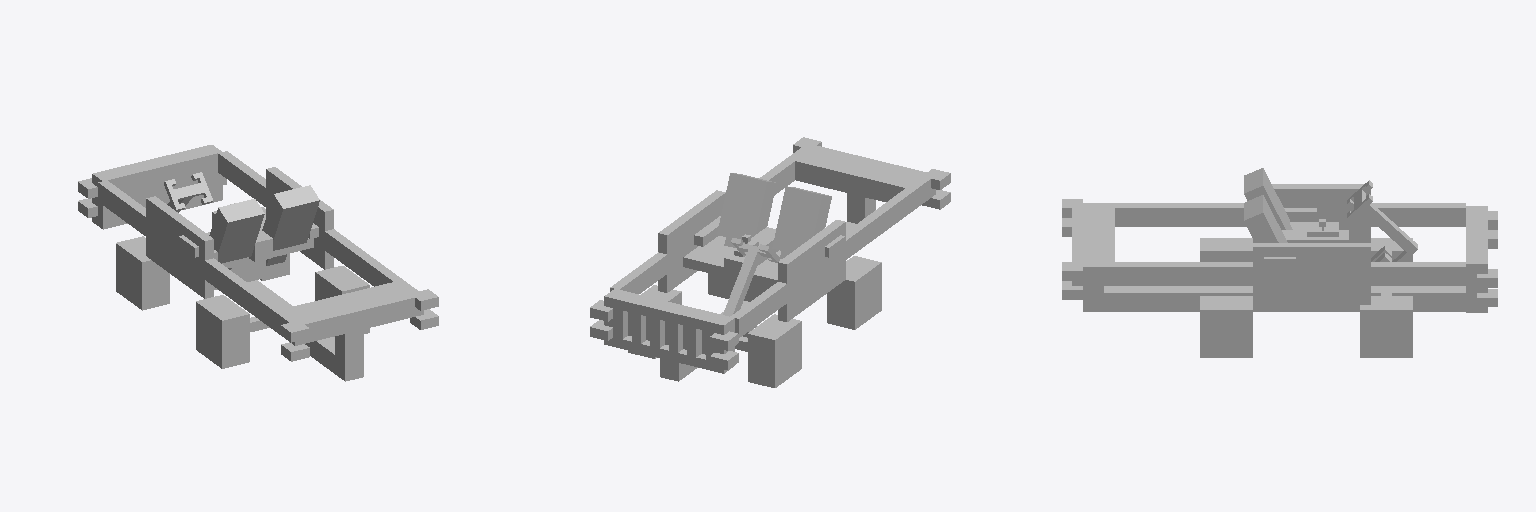
Rendered from car_demo.obj.
The picture shows the model from 3 angles: view 1: azimuth 30°, elevation 25°; view 2: azimuth 150°, elevation 25°; view 3: azimuth 270°, elevation 25°; orthographic projection.
Parts seen in each view (by area): view 1: cube; view 2: cube; view 3: cube.
Boxes of the visible parts, x1=… form: cube: x1=78, y1=145, x2=438, y2=381; cube: x1=590, y1=137, x2=950, y2=387; cube: x1=1062, y1=168, x2=1497, y2=357.
Bounding box in the file's own units: 1 × 0.8531 × 2.56.